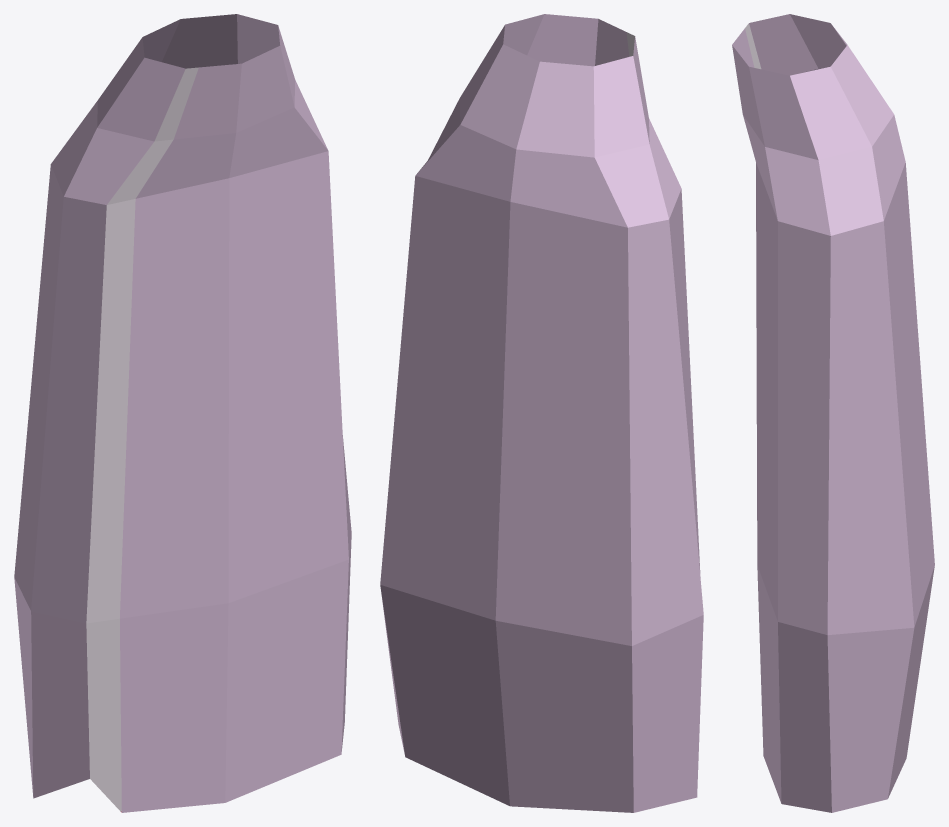
File: kimono_bottom_purple.fbx
3 renders of one model, left to right at view 1: azimuth 30°, elevation 25°; view 2: azimuth 150°, elevation 25°; view 3: azimuth 270°, elevation 25°, orthographic. The views are drawn at different scales.
Parts seen in each view (by area): view 1: KimonoBottom; view 2: KimonoBottom; view 3: KimonoBottom.
Boxes of the visible parts, x1=… form: KimonoBottom: x1=14, y1=14, x2=351, y2=812; KimonoBottom: x1=380, y1=14, x2=703, y2=812; KimonoBottom: x1=732, y1=14, x2=934, y2=812.
Size of the model in its own units: 116 by 261 by 67.35.
